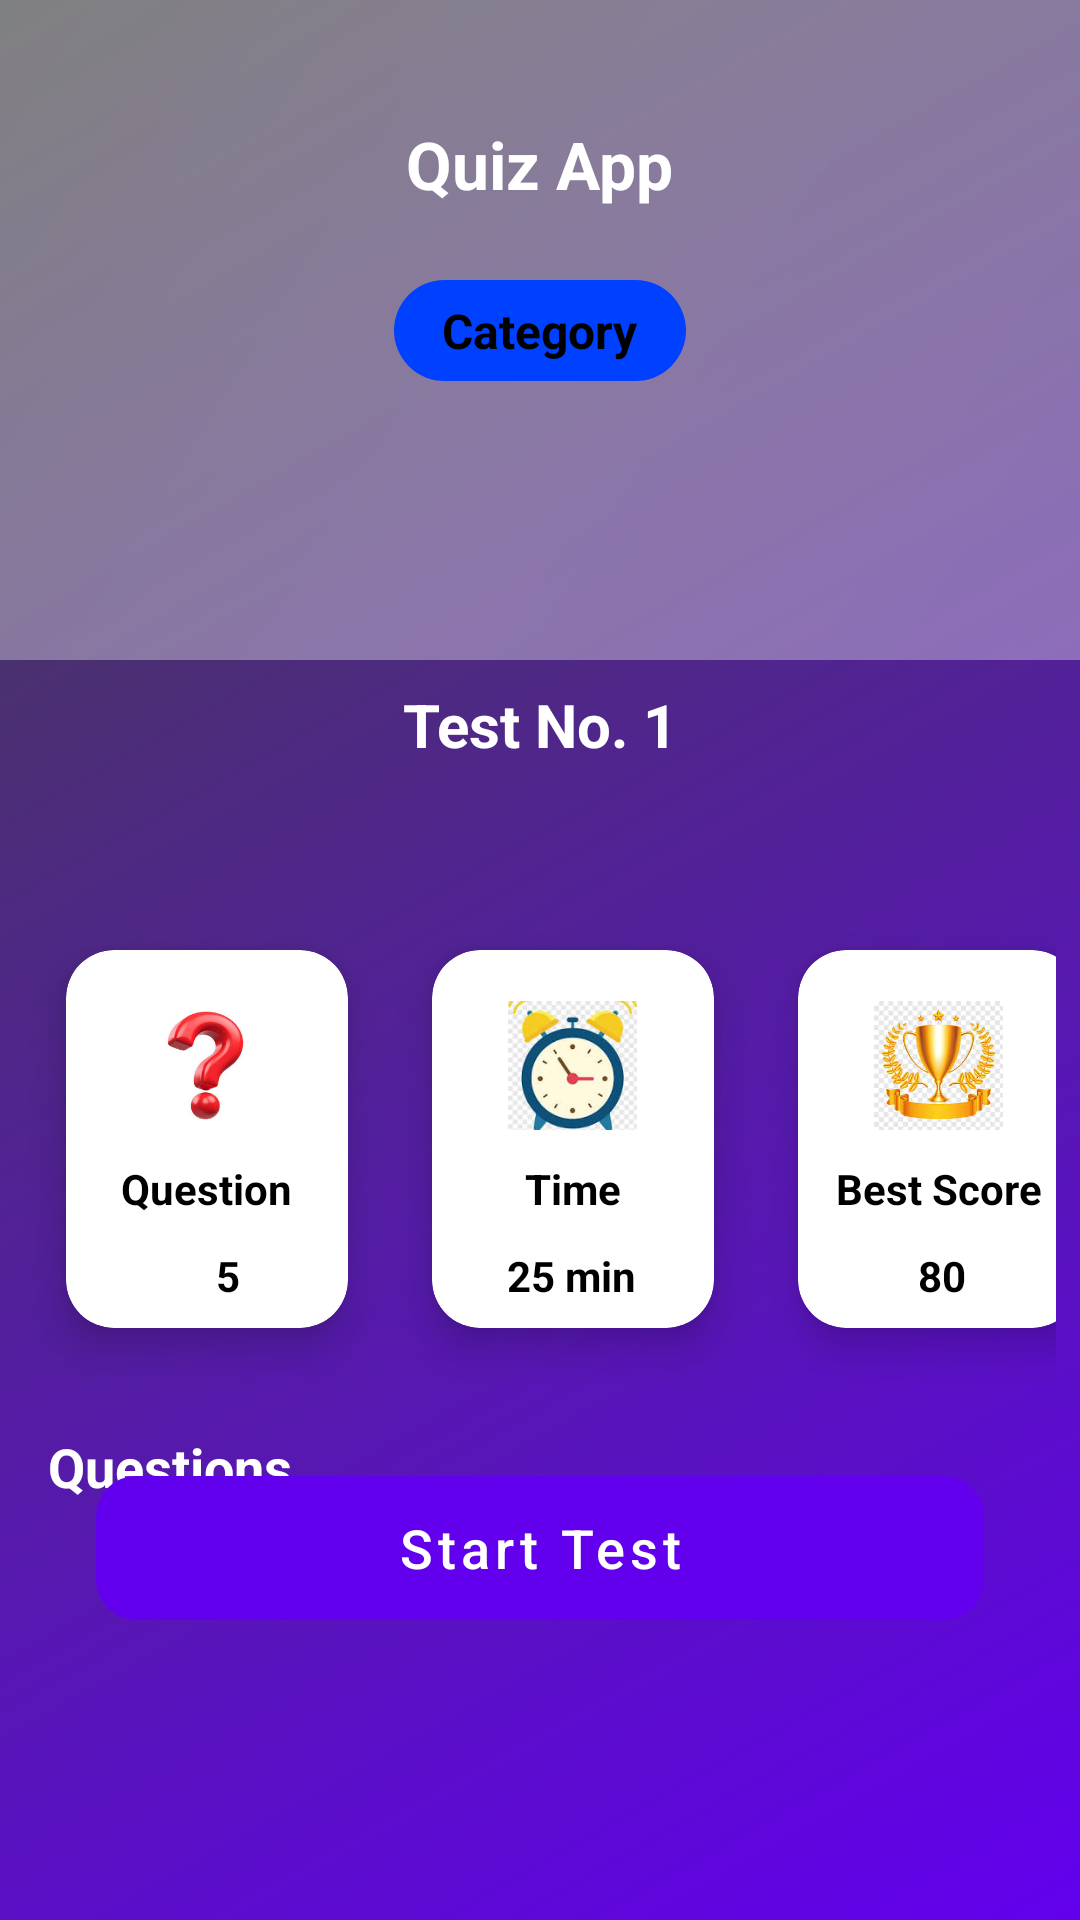

Point at icon controls on the screen. Image size 1080x1920, points as (x,y).
award: (938,1065)
clock: (572,1065)
